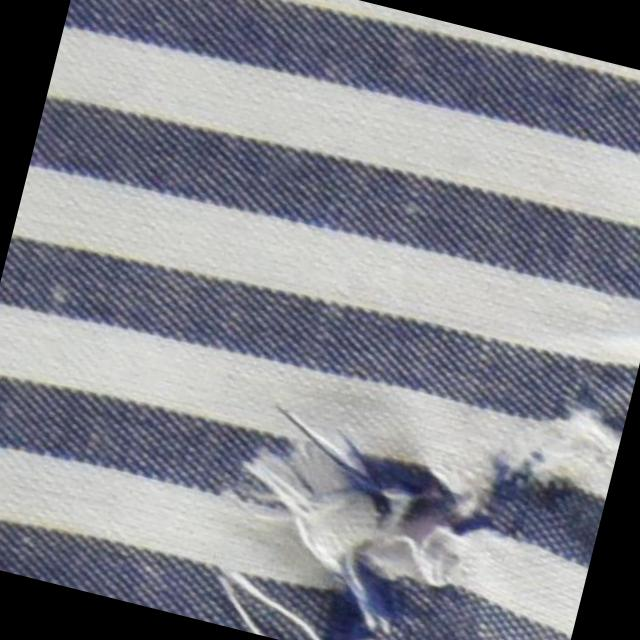cut: (258, 415, 481, 640)
